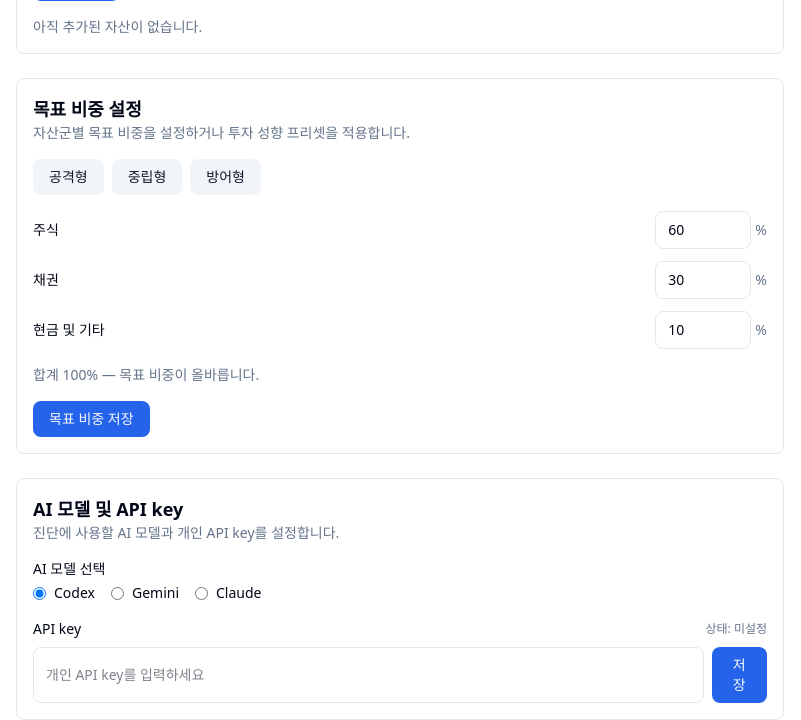
Test case: SettingsPortfolioPanel — AI 모델/API key › AI 모델을 변경하면 선택 상태가 반영된다
(page scrolled)
Expected: the number field named "주식 목표 비중" is shown, [655,211,751,249]
Step 1. Click the radio button labelled "Gemini" → (118, 593), box [111,586,124,600]
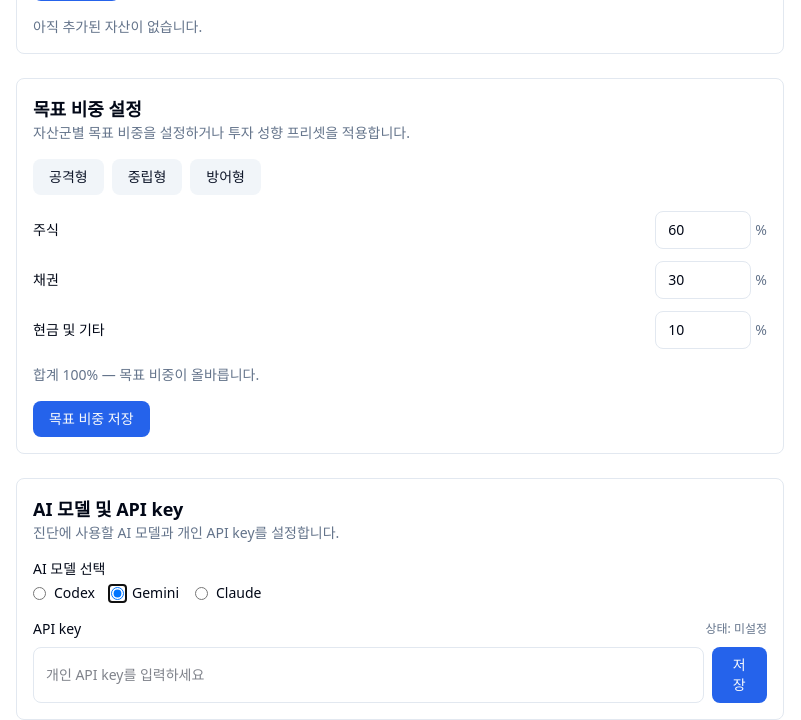
Expected: the radio button labelled "Gemini" is checked, [111,586,124,600]
Expected: the radio button labelled "Codex" is not checked, [33,586,46,600]
